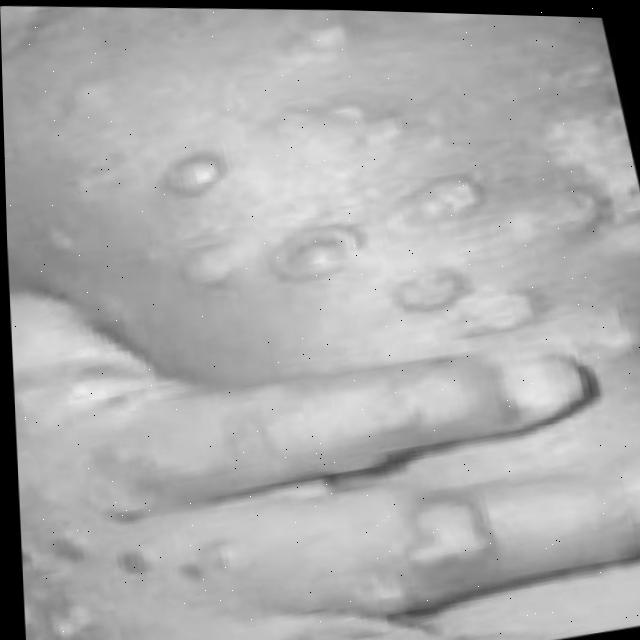Eczema: (170, 5, 640, 363), (18, 516, 241, 640)
